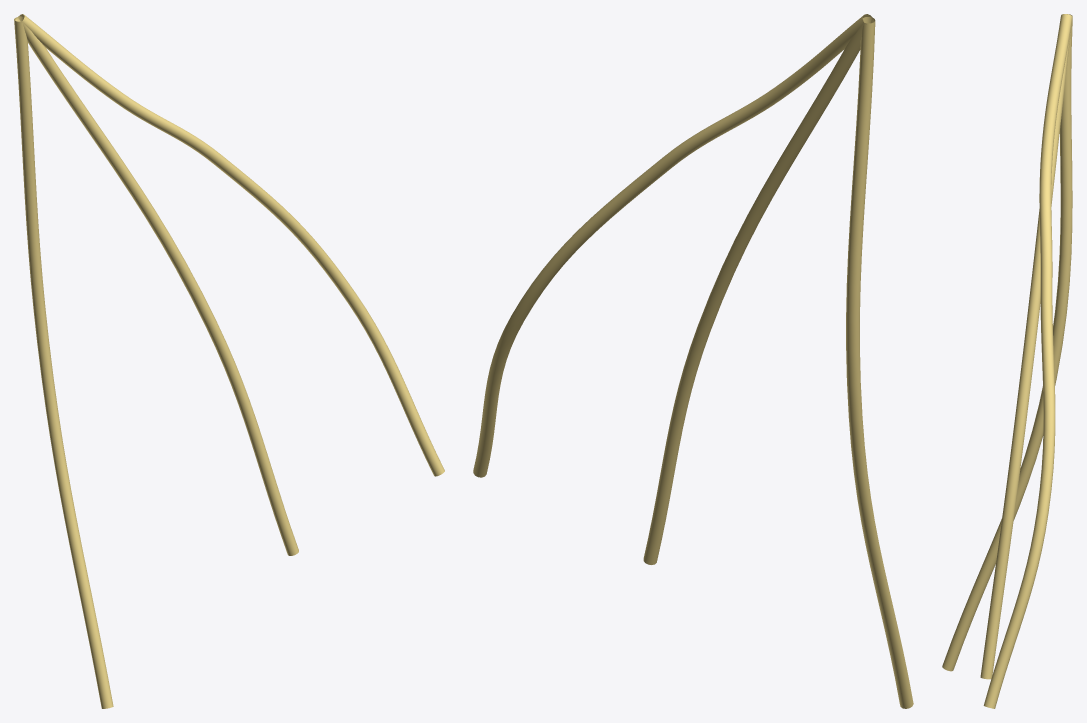
3 views of the same model, side by side, from view 1: azimuth 30°, elevation 25°; view 2: azimuth 150°, elevation 25°; view 3: azimuth 270°, elevation 25° (orthographic). The views are drawn at different scales.
Visible parts, largest first — view 1: ZA_c363b7ef899c6de2; view 2: ZA_c363b7ef899c6de2; view 3: ZA_c363b7ef899c6de2.
Boxes of the visible parts, <box> form: ZA_c363b7ef899c6de2: <box>14,14,444,708</box>; ZA_c363b7ef899c6de2: <box>473,14,913,708</box>; ZA_c363b7ef899c6de2: <box>942,14,1072,708</box>.
Size of the model in its own units: 0.0369 by 0.0593 by 0.0109.
